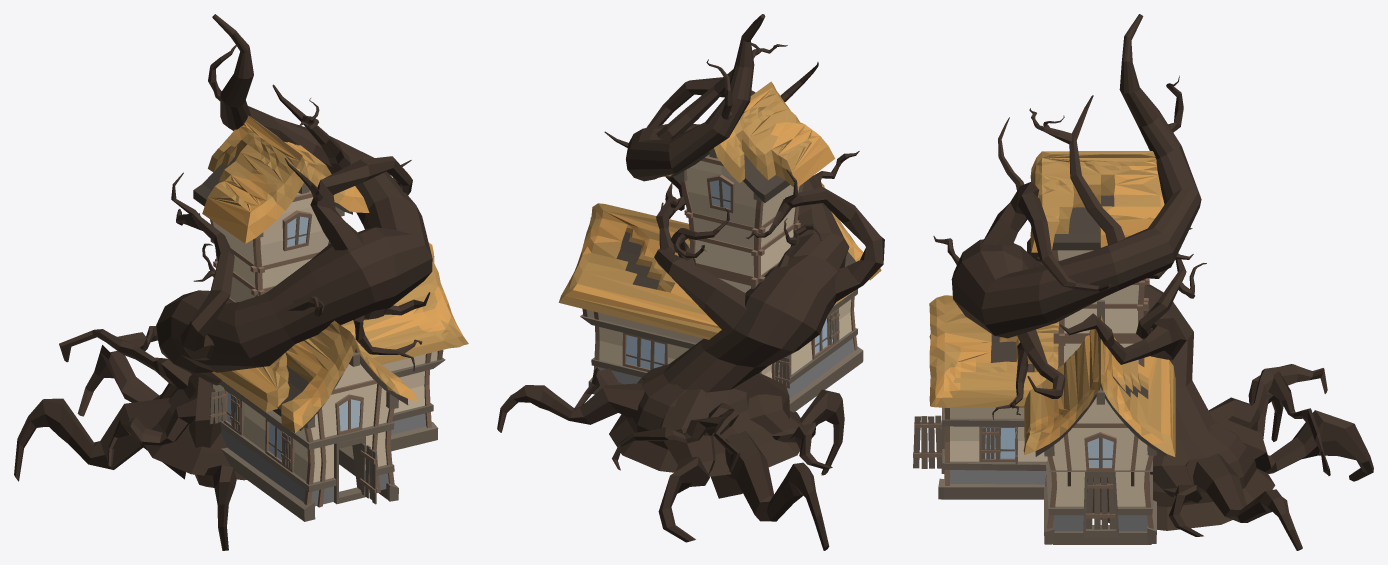
File: An_Manoir.fbx
The picture shows the model from 3 angles, left to right: view 1: azimuth 30°, elevation 25°; view 2: azimuth 150°, elevation 25°; view 3: azimuth 270°, elevation 25°; orthographic projection. The views are drawn at different scales.
Parts seen in each view (by area): view 1: Cube, Cube.002; view 2: Cube; view 3: Cube, Cube.002, Cube.001, Cube.004.
Boxes of the visible parts, bbox=[...] form: Cube: bbox=[14, 14, 468, 550]; Cube.002: bbox=[359, 443, 378, 504]; Cube: bbox=[497, 14, 884, 550]; Cube: bbox=[929, 14, 1373, 550]; Cube.002: bbox=[913, 415, 941, 468]; Cube.001: bbox=[1086, 477, 1115, 529]; Cube.004: bbox=[981, 427, 999, 459].
Bounding box in the file's own units: 2325 × 3334 × 2709.
